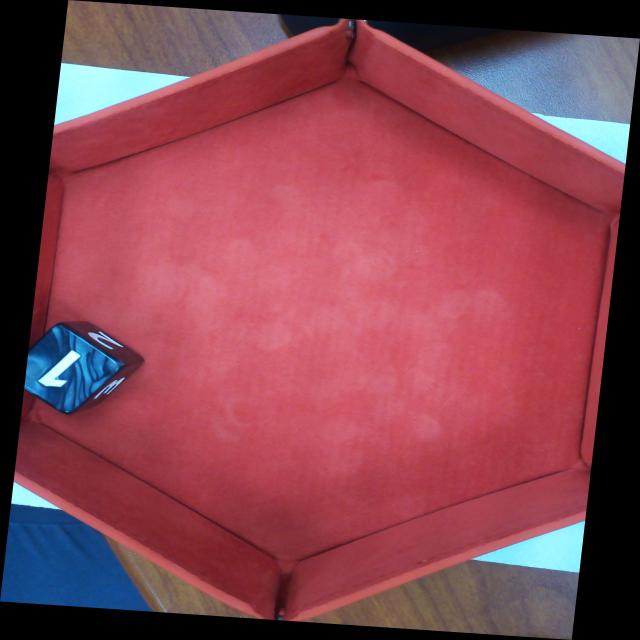dice: (22, 323, 126, 414)
